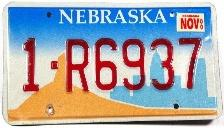1: (22, 34, 43, 93)
3: (148, 37, 178, 91)
6: (94, 35, 118, 92)
7: (178, 36, 205, 92)
9: (122, 38, 146, 93)
R: (63, 35, 92, 96)
